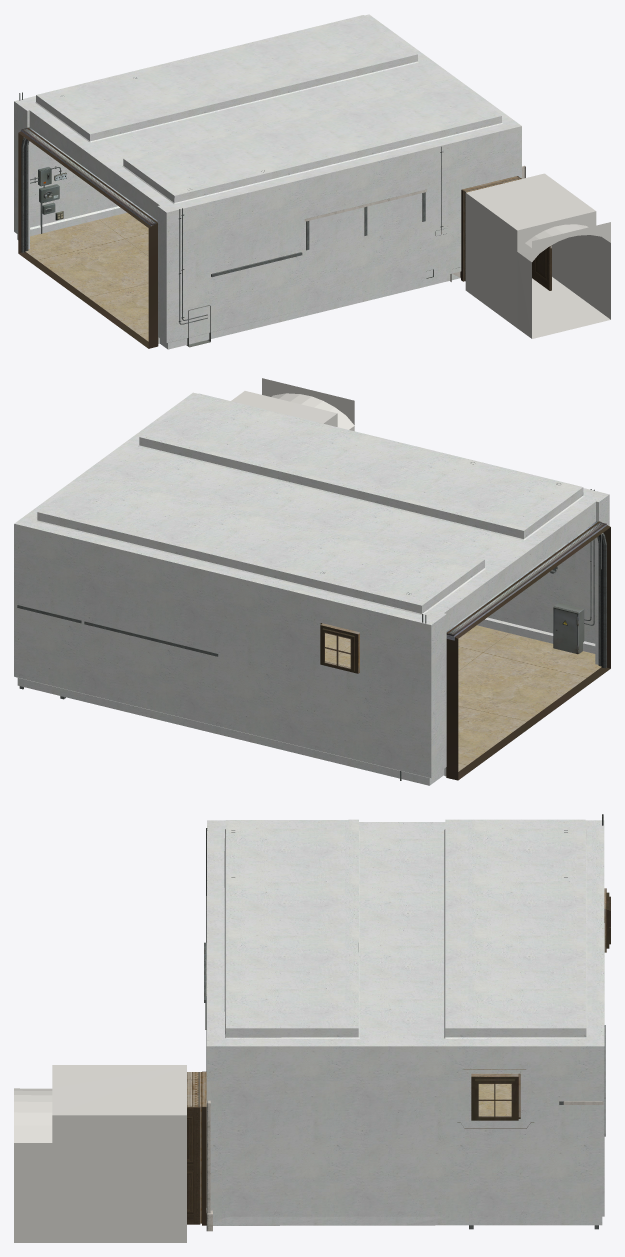
File: michaels-garage.glb
3 renders of one model, top to bottom at view 1: azimuth 30°, elevation 25°; view 2: azimuth 150°, elevation 25°; view 3: azimuth 270°, elevation 25°, orthographic. The views are drawn at different scales.
Visible parts, largest first — view 1: v_44_garage_shell_high__material_2, v_44_garage_shell_high__material_3, v_44_garage_shell_high__material_1, v_44_garage_shell_high__material_6, v_44_g_gara_deta_high__material_1, v_44_g_gara_deta_high__material_5, v_44_garage_shell_high__material_5, prop_ss1_14_garage_door_high__material_0, apa_p_mp_door_stilt_door_high__material_1, v_44_garage_shell_high__material_0; view 2: v_44_garage_shell_high__material_2, v_44_garage_shell_high__material_1, v_44_g_gara_deta_high__material_5, v_44_g_gara_deta_high__material_1, v_44_garage_shell_high__material_6, prop_ss1_14_garage_door_high__material_0; view 3: v_44_garage_shell_high__material_2, v_44_garage_shell_high__material_3, v_44_garage_shell_high__material_6, v_44_g_gara_deta_high__material_5, apa_p_mp_door_stilt_door_high__material_1, v_44_g_gara_deta_high__material_1, v_44_garage_shell_high__material_1, v_44_garage_shell_high__material_0, v_44_g_gara_deta_high__material_0.
Part boxes in pixels (x1,y1,x2,y2): v_44_garage_shell_high__material_2: (14, 14, 521, 349); v_44_garage_shell_high__material_3: (465, 193, 610, 338); v_44_garage_shell_high__material_1: (25, 212, 460, 341); v_44_garage_shell_high__material_6: (466, 173, 610, 261); v_44_g_gara_deta_high__material_1: (19, 77, 525, 347); v_44_g_gara_deta_high__material_5: (18, 127, 519, 348); v_44_garage_shell_high__material_5: (532, 277, 610, 338); prop_ss1_14_garage_door_high__material_0: (21, 127, 157, 225); apa_p_mp_door_stilt_door_high__material_1: (520, 178, 551, 290); v_44_garage_shell_high__material_0: (462, 176, 520, 281); v_44_garage_shell_high__material_2: (14, 392, 609, 785); v_44_garage_shell_high__material_1: (325, 625, 601, 771); v_44_g_gara_deta_high__material_5: (320, 521, 610, 780); v_44_g_gara_deta_high__material_1: (17, 462, 606, 780); v_44_garage_shell_high__material_6: (231, 378, 354, 429); prop_ss1_14_garage_door_high__material_0: (446, 521, 606, 640); v_44_garage_shell_high__material_2: (206, 819, 604, 1225); v_44_garage_shell_high__material_3: (14, 1115, 186, 1242); v_44_garage_shell_high__material_6: (14, 1065, 186, 1142); v_44_g_gara_deta_high__material_5: (202, 892, 610, 1225); apa_p_mp_door_stilt_door_high__material_1: (187, 1107, 200, 1224); v_44_g_gara_deta_high__material_1: (204, 814, 605, 1231); v_44_garage_shell_high__material_1: (213, 1084, 511, 1225); v_44_garage_shell_high__material_0: (187, 1072, 206, 1223); v_44_g_gara_deta_high__material_0: (464, 888, 606, 1117).
Size of the model in its own units: 12.65 by 4.81 by 13.2.
Materials: 15 (9 with a texture image).
